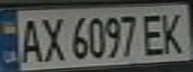0: (87, 13, 106, 60)
6: (66, 12, 90, 61)
7: (121, 11, 142, 58)
9: (103, 12, 124, 59)
A: (15, 15, 45, 64)
E: (139, 10, 169, 56)
K: (157, 8, 190, 55)
X: (36, 14, 66, 63)
